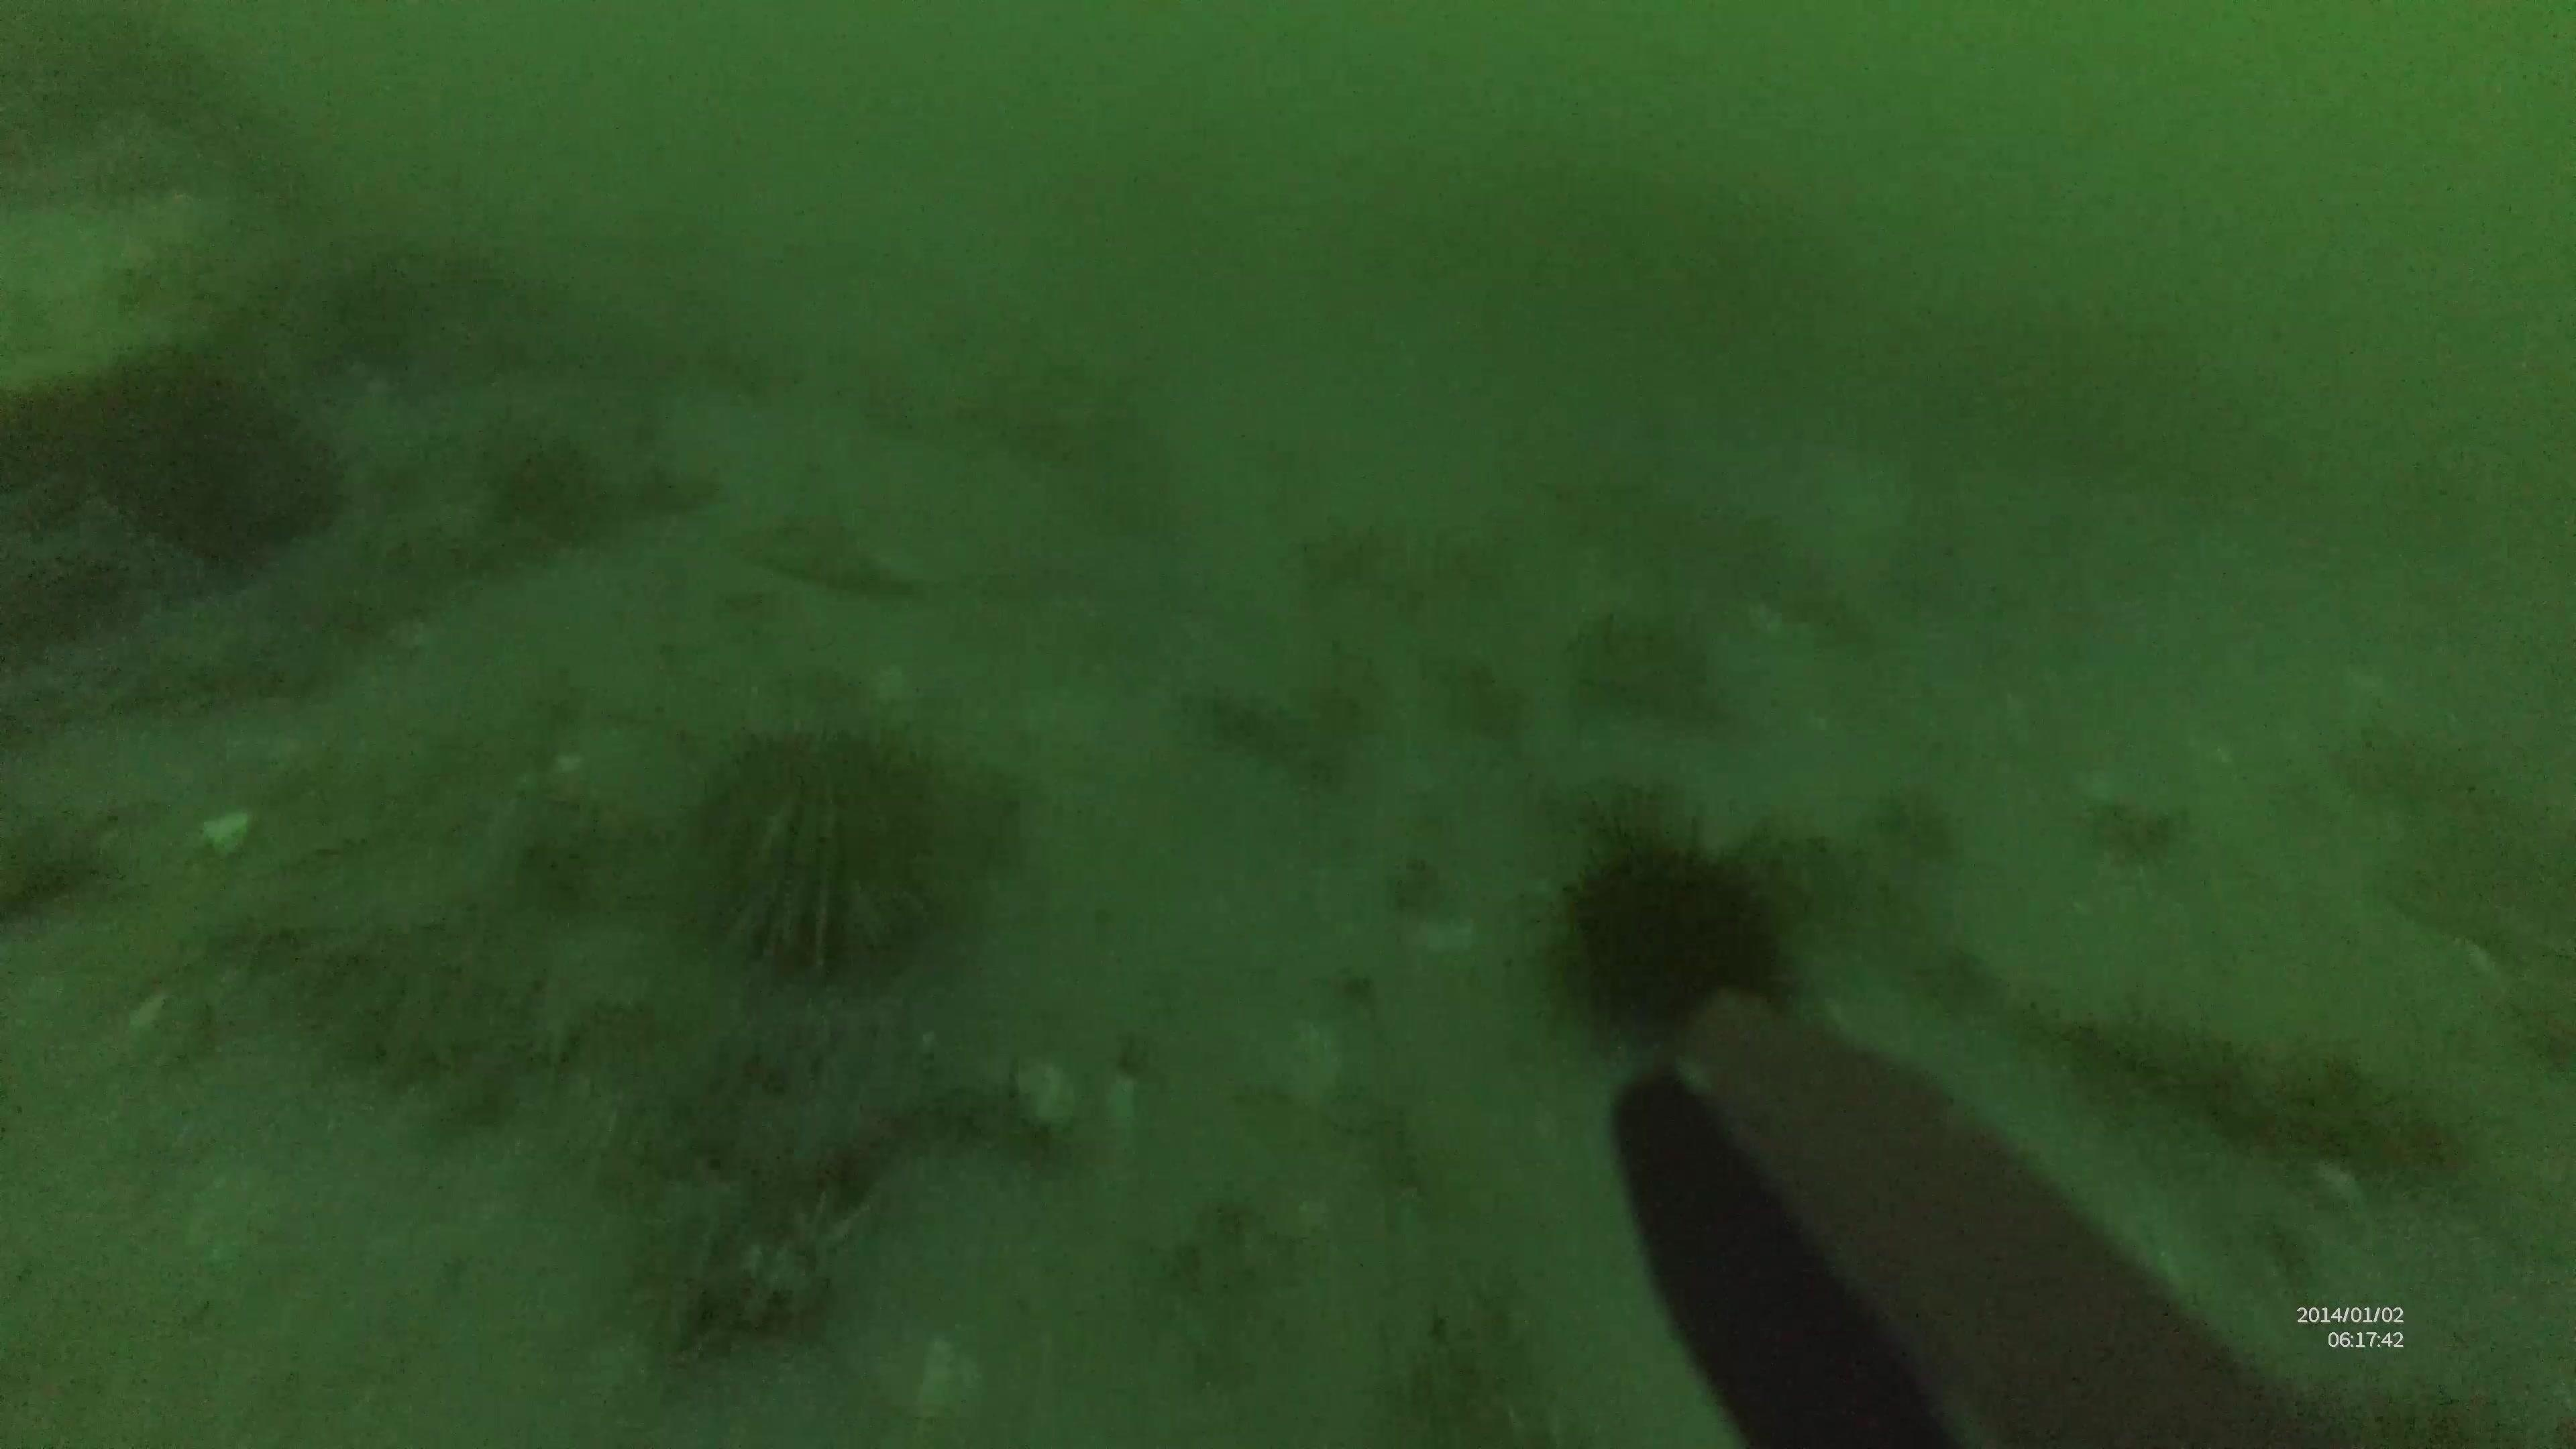echinus: (679, 711, 970, 977), (1545, 810, 1799, 1042)
